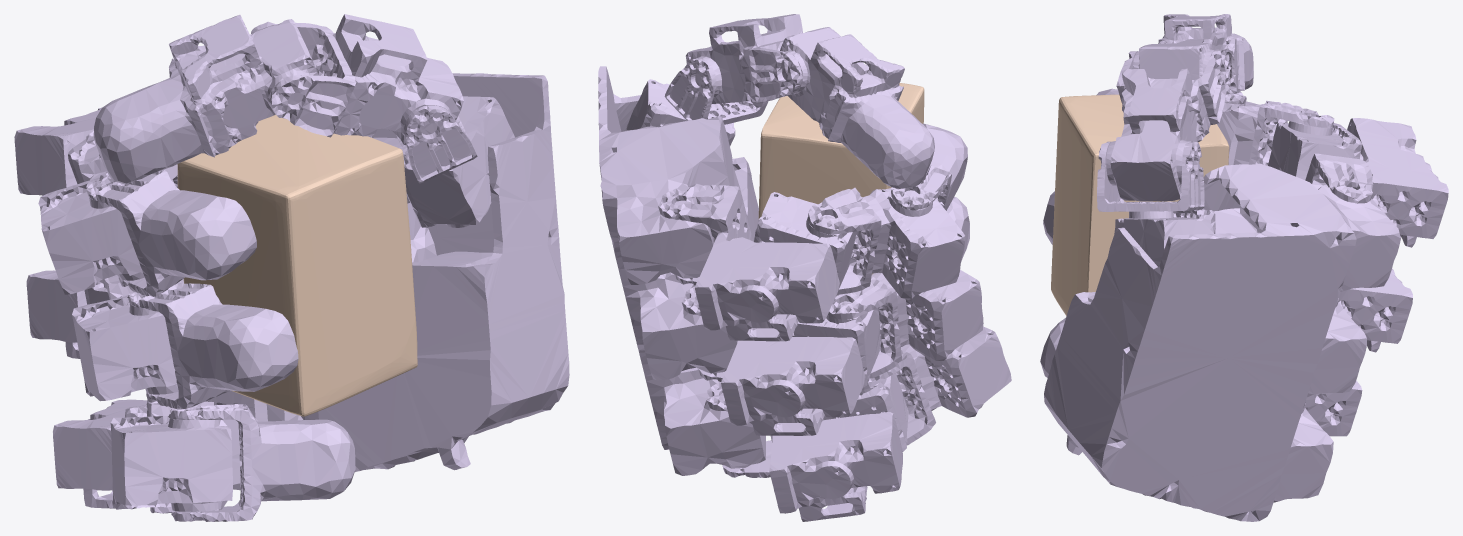
File: 816b373b7fbbf2-final.glb
3 renders of one model, left to right at view 1: azimuth 30°, elevation 25°; view 2: azimuth 150°, elevation 25°; view 3: azimuth 270°, elevation 25°, orthographic. The views are drawn at different scales.
Visible parts, largest first — view 1: LEAP_hand, world; view 2: LEAP_hand, world; view 3: LEAP_hand, world.
Part boxes in pixels (x1,y1,x2,y2): LEAP_hand: (14,14,569,521); world: (177,114,417,416); LEAP_hand: (598,14,1011,521); world: (758,83,924,274); LEAP_hand: (1040,14,1448,521); world: (1051,94,1229,315).
Bounding box in the file's own units: 0.1691 × 0.1767 × 0.147.
